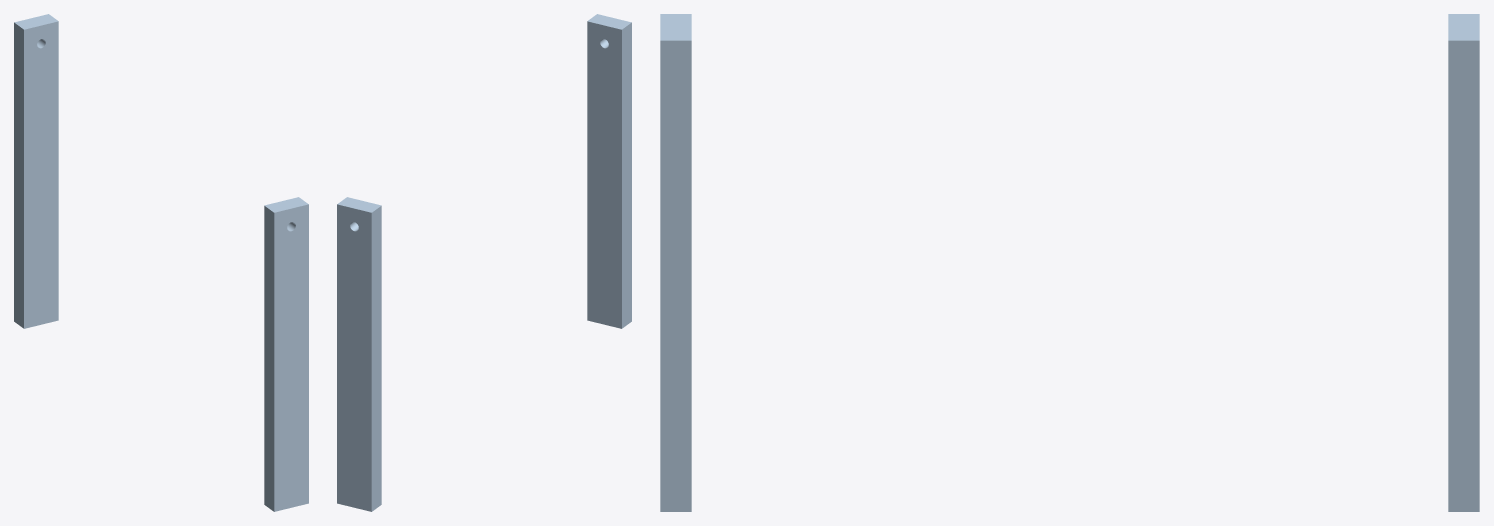
File: IntakeBase.dae
The picture shows the model from 3 angles, left to right: view 1: azimuth 30°, elevation 25°; view 2: azimuth 150°, elevation 25°; view 3: azimuth 270°, elevation 25°; orthographic projection. The views are drawn at different scales.
Parts seen in each view (by area): view 1: Base; view 2: Base; view 3: Base.
Part boxes in pixels (x1,y1,x2,y2): Base: (14,14,308,511); Base: (337,14,631,511); Base: (660,14,1479,511).
Bounding box in the file's own units: 0.0508 × 0.6604 × 0.4191.
